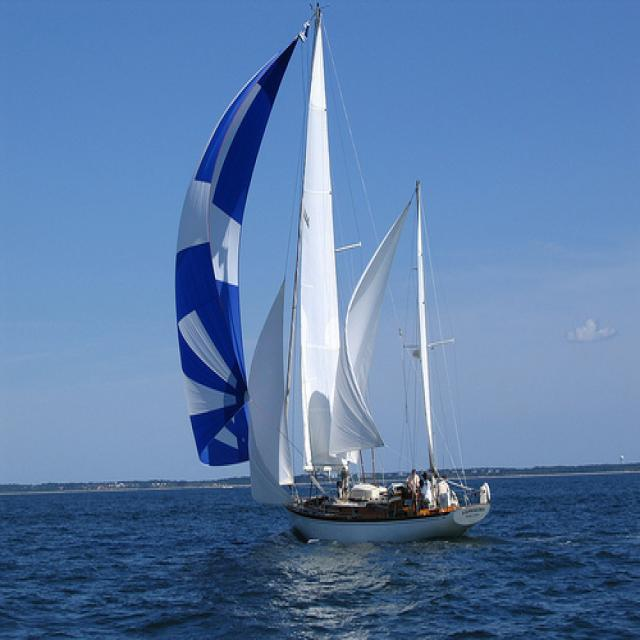Ship: (177, 10, 497, 544)
